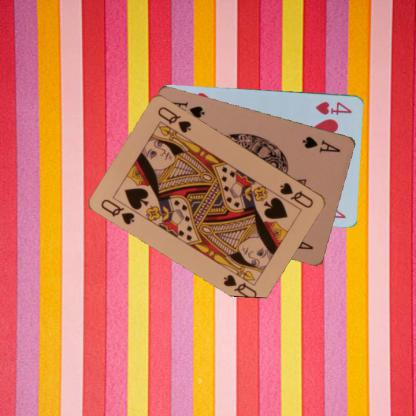4h: (313, 98, 354, 115)
As: (300, 134, 342, 154)
Qs: (98, 196, 136, 226), (277, 180, 315, 209)
